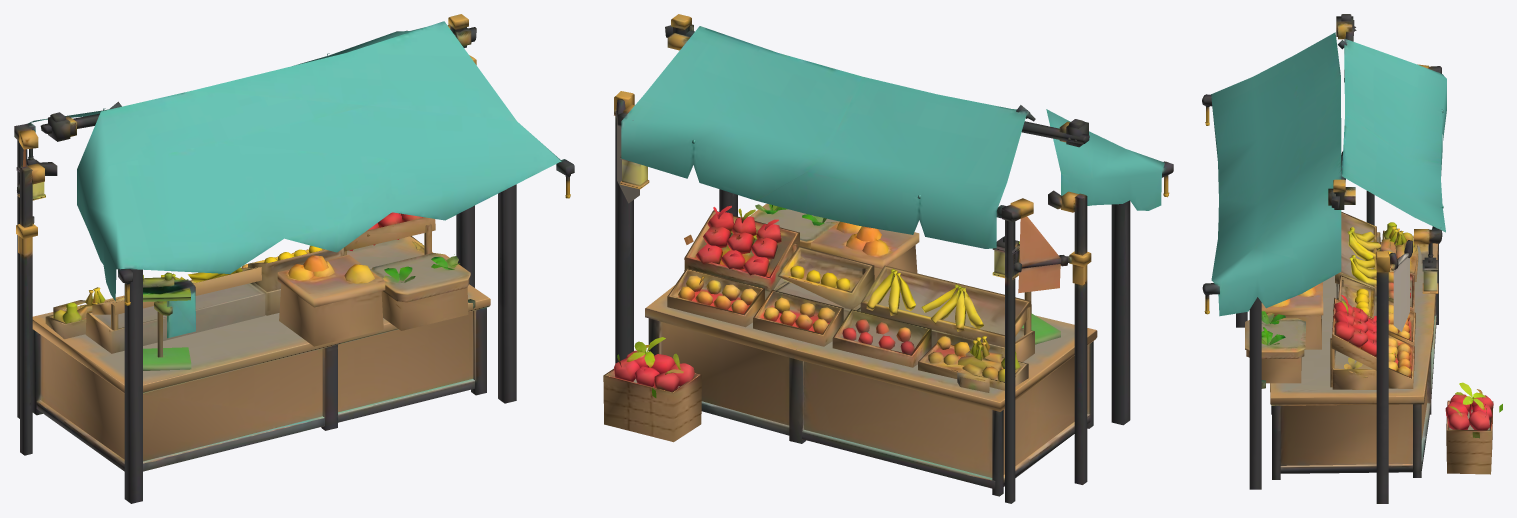
File: stall_fruit.glb
3 renders of one model, left to right at view 1: azimuth 30°, elevation 25°; view 2: azimuth 150°, elevation 25°; view 3: azimuth 270°, elevation 25°, orthographic. The views are drawn at different scales.
Visible parts, largest first — view 1: stall_fruit; view 2: stall_fruit; view 3: stall_fruit.
Boxes of the visible parts, x1,y1,x2,y2 form: stall_fruit: [14, 14, 574, 503]; stall_fruit: [603, 14, 1173, 503]; stall_fruit: [1202, 14, 1502, 503].
Size of the model in its own units: 3.4 by 2.46 by 2.19.
1 material, 1 textured.
